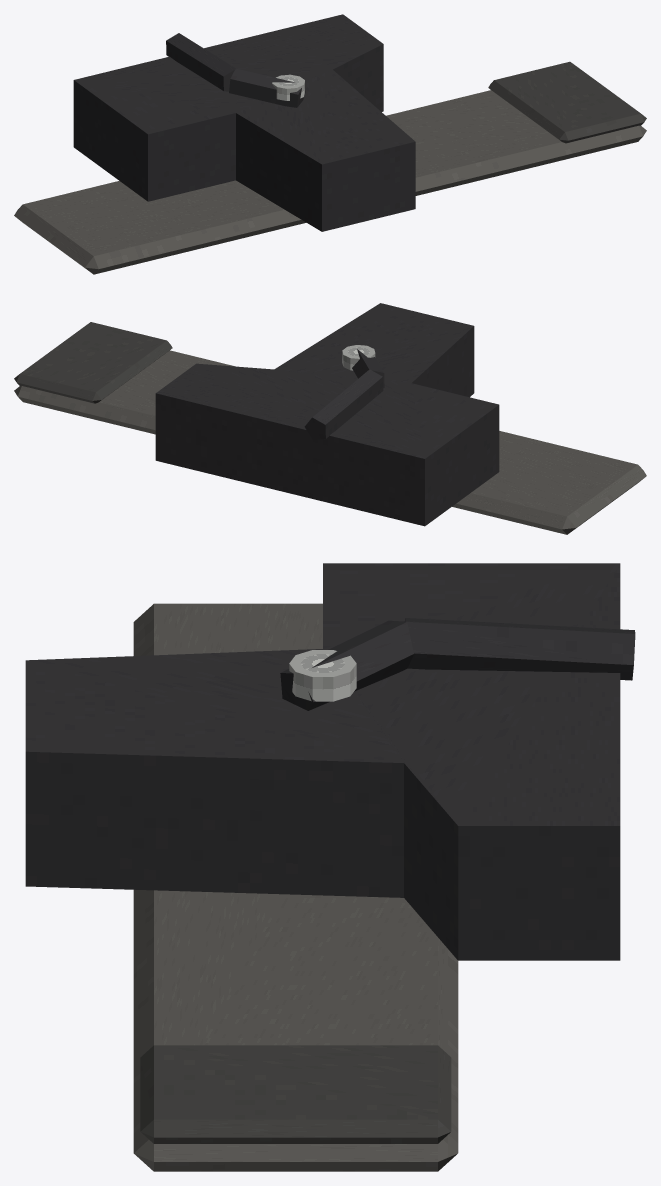
Rendered from bootstrap.glb.
3 renders of one model, top to bottom at view 1: azimuth 30°, elevation 25°; view 2: azimuth 150°, elevation 25°; view 3: azimuth 270°, elevation 25°, orthographic. The views are drawn at different scales.
Visible parts, largest first — view 1: block_pistol pocket, block_elastic ankle band, block_hook-and-loop end tab, block_retention strap 0, block_retention strap 1, block_strap snap; view 2: block_pistol pocket, block_elastic ankle band, block_hook-and-loop end tab, block_retention strap 0, block_strap snap, block_retention strap 1; view 3: block_pistol pocket, block_elastic ankle band, block_hook-and-loop end tab, block_retention strap 0, block_retention strap 1, block_strap snap.
Part boxes in pixels (left/top/right/bottom): block_pistol pocket: left=73, top=14, right=415, bottom=231; block_elastic ankle band: left=14, top=90, right=646, bottom=274; block_hook-and-loop end tab: left=488, top=61, right=646, bottom=143; block_retention strap 0: left=166, top=33, right=235, bottom=91; block_retention strap 1: left=229, top=68, right=305, bottom=107; block_strap snap: left=272, top=74, right=304, bottom=100; block_pistol pocket: left=155, top=303, right=499, bottom=526; block_elastic ankle band: left=14, top=350, right=646, bottom=534; block_hook-and-loop end tab: left=14, top=322, right=172, bottom=403; block_retention strap 0: left=304, top=369, right=383, bottom=439; block_strap snap: left=342, top=345, right=375, bottom=370; block_retention strap 1: left=352, top=349, right=384, bottom=388; block_pistol pocket: left=25, top=563, right=620, bottom=960; block_elastic ankle band: left=133, top=603, right=458, bottom=1171; block_hook-and-loop end tab: left=140, top=1045, right=451, bottom=1143; block_retention strap 0: left=405, top=618, right=635, bottom=680; block_retention strap 1: left=280, top=620, right=413, bottom=710; block_strap snap: left=289, top=650, right=356, bottom=701.
Size of the model in its own units: 0.1795 by 0.0335 by 0.0844.
Materials: 2 (2 with a texture image).
